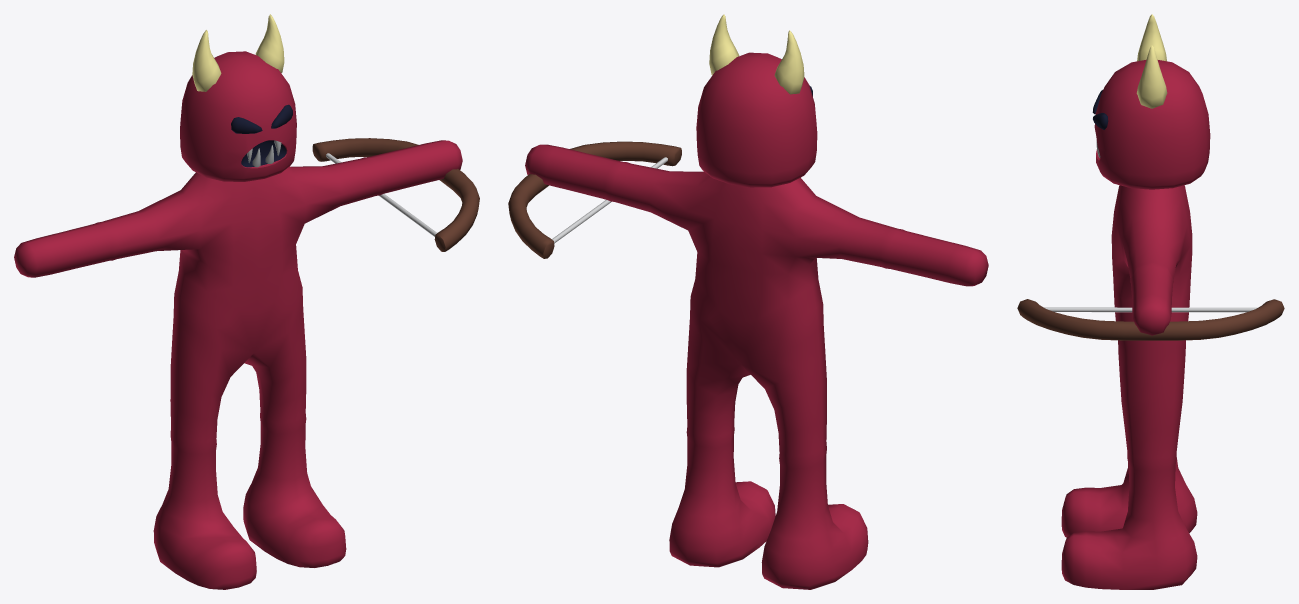
Rendered from DemonArcher_withoutQuiver.fbx.
3 renders of one model, left to right at view 1: azimuth 30°, elevation 25°; view 2: azimuth 150°, elevation 25°; view 3: azimuth 270°, elevation 25°, orthographic. The views are drawn at different scales.
Parts seen in each view (by area): view 1: DemonArcher; view 2: DemonArcher; view 3: DemonArcher.
Part boxes in pixels (bbox=[...]): DemonArcher: bbox=[14, 14, 479, 589]; DemonArcher: bbox=[508, 14, 988, 589]; DemonArcher: bbox=[1017, 14, 1284, 589].
Size of the model in its own units: 175 by 199 by 92.15.
